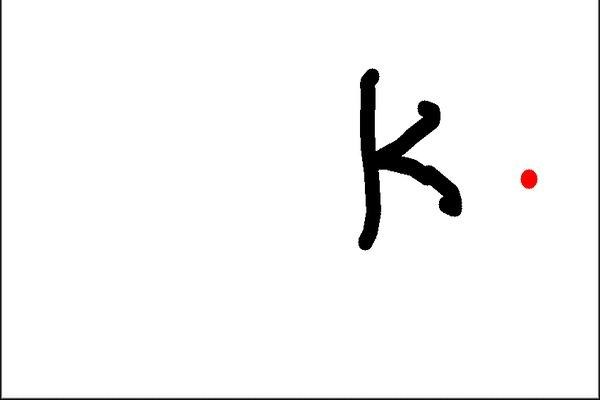K: (344, 60, 469, 256)
